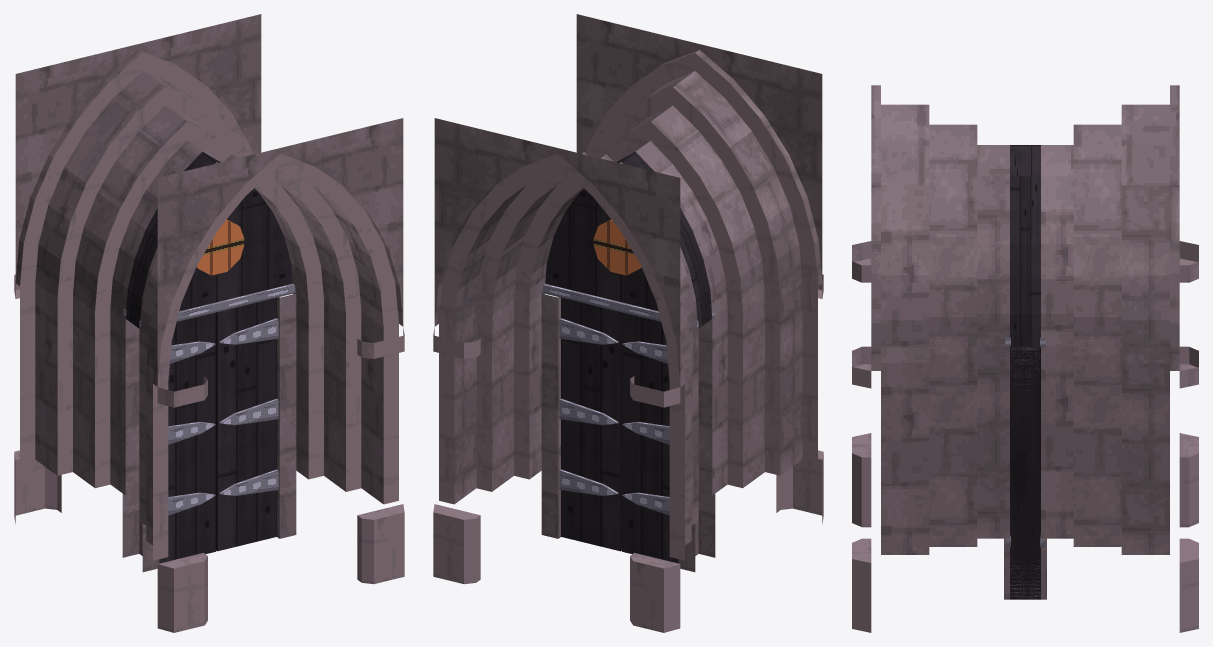
The model's file is door_boss_b.glb.
The picture shows the model from 3 angles, left to right: view 1: azimuth 30°, elevation 25°; view 2: azimuth 150°, elevation 25°; view 3: azimuth 270°, elevation 25°; orthographic projection. The views are drawn at different scales.
Visible parts, largest first — view 1: portal_back, portal_front, leaf_a, portal, leaf_b; view 2: portal_front, portal_back, leaf_a, portal, leaf_b; view 3: portal_front, portal_back, leaf_a, portal.
Part boxes in pixels (left/top/right/bottom): portal_back: left=14, top=14, right=279, bottom=557; portal_front: left=139, top=118, right=404, bottom=632; leaf_a: left=216, top=297, right=278, bottom=551; portal: left=123, top=152, right=295, bottom=329; leaf_b: left=159, top=312, right=215, bottom=563; portal_front: left=558, top=14, right=823, bottom=557; portal_back: left=433, top=118, right=698, bottom=632; leaf_a: left=559, top=297, right=621, bottom=551; portal: left=542, top=152, right=714, bottom=329; leaf_b: left=622, top=312, right=678, bottom=563; portal_front: left=852, top=85, right=1025, bottom=632; portal_back: left=1025, top=85, right=1198, bottom=632; leaf_a: left=1006, top=346, right=1044, bottom=599; portal: left=1005, top=145, right=1045, bottom=346.
Size of the model in its own units: 2 by 3.5 by 2.25.
1 material, 1 textured.
